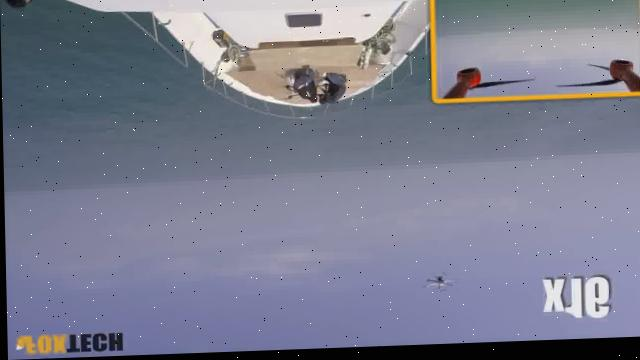drone: (420, 274, 454, 296)
